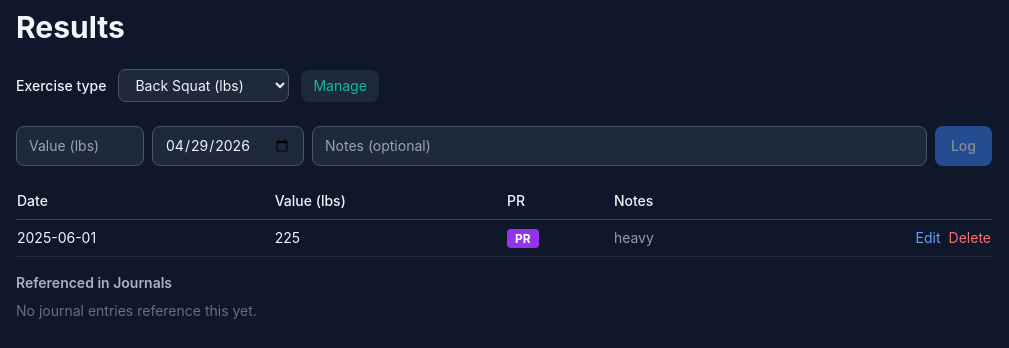
Test: Results › shows Edit button and enters inline edit mode on click
Check: the text "2025-06-01" is shown, box [16,220,274,256]
Click the button with aria-label "Edit entry".
click(928, 238)  # box [916,228,941,248]
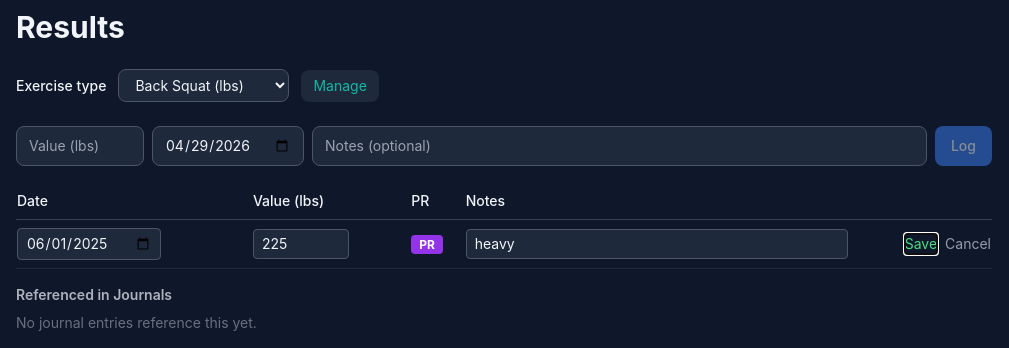
Check: the number field showing "225" is shown, box [253,229,349,259]
Check: the date field showing "2025-06-01" is shown, box [17,228,161,260]
Check: the field showing "heavy" is shown, box [466,229,848,259]
